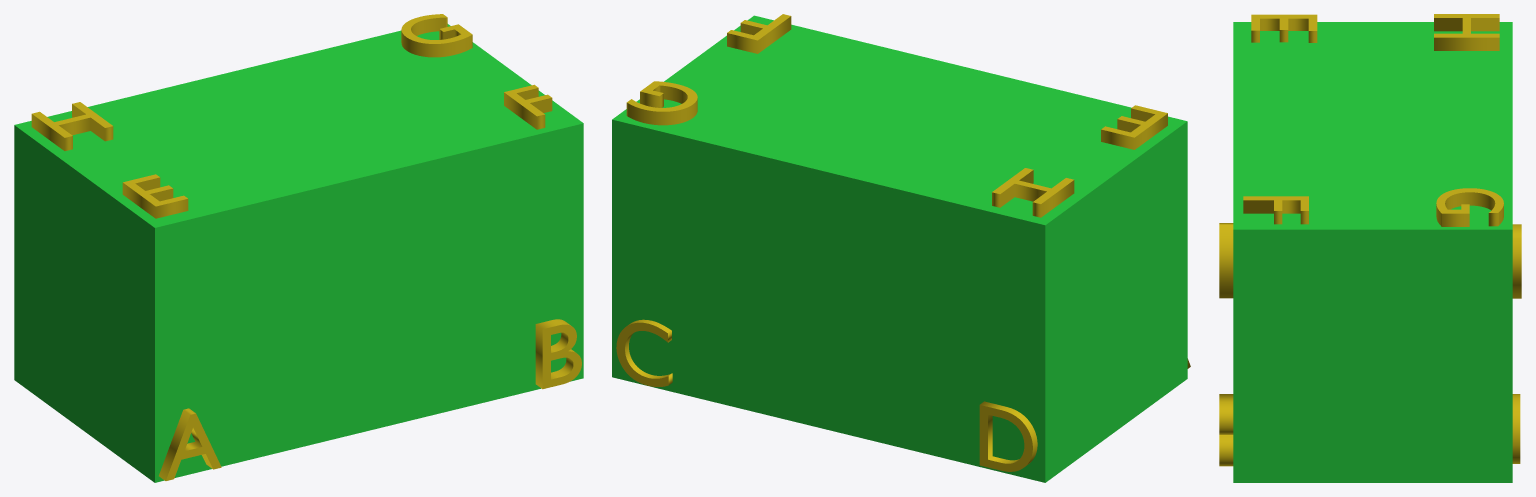
Rendered from BALmOK.fbx.
3 renders of one model, left to right at view 1: azimuth 30°, elevation 25°; view 2: azimuth 150°, elevation 25°; view 3: azimuth 270°, elevation 25°, orthographic.
Visible parts, largest first — view 1: Cube, Text.005, Text.006, Text.007, Text.004, Text.002, Text.003; view 2: Cube, Text.006, Text.001, Text.007, Text.002, Text, Text.003; view 3: Cube, Text.007, Text.006, Text.002, Text.003, Text.004, Text.005, Text.001, Text.
Part boxes in pixels (x1,y1,x2,y2): Cube: (14, 24, 583, 482); Text.005: (535, 319, 581, 389); Text.006: (401, 14, 472, 57); Text.007: (31, 102, 113, 150); Text.004: (159, 408, 221, 480); Text.002: (122, 174, 188, 218); Text.003: (504, 84, 552, 129); Cube: (612, 15, 1187, 482); Text.006: (626, 81, 697, 125); Text.001: (979, 401, 1037, 471); Text.007: (992, 168, 1074, 217); Text.002: (1101, 105, 1167, 149); Text: (616, 319, 672, 386); Text.003: (727, 14, 791, 53); Cube: (1233, 22, 1512, 482); Text.007: (1434, 14, 1499, 50); Text.006: (1436, 188, 1503, 226); Text.002: (1251, 14, 1317, 42); Text.003: (1243, 196, 1308, 224); Text.004: (1219, 223, 1233, 298); Text.005: (1219, 394, 1233, 466); Text.001: (1512, 224, 1521, 298); Text: (1512, 394, 1520, 463).
Bounding box in the file's own units: 352 × 211 × 217.
